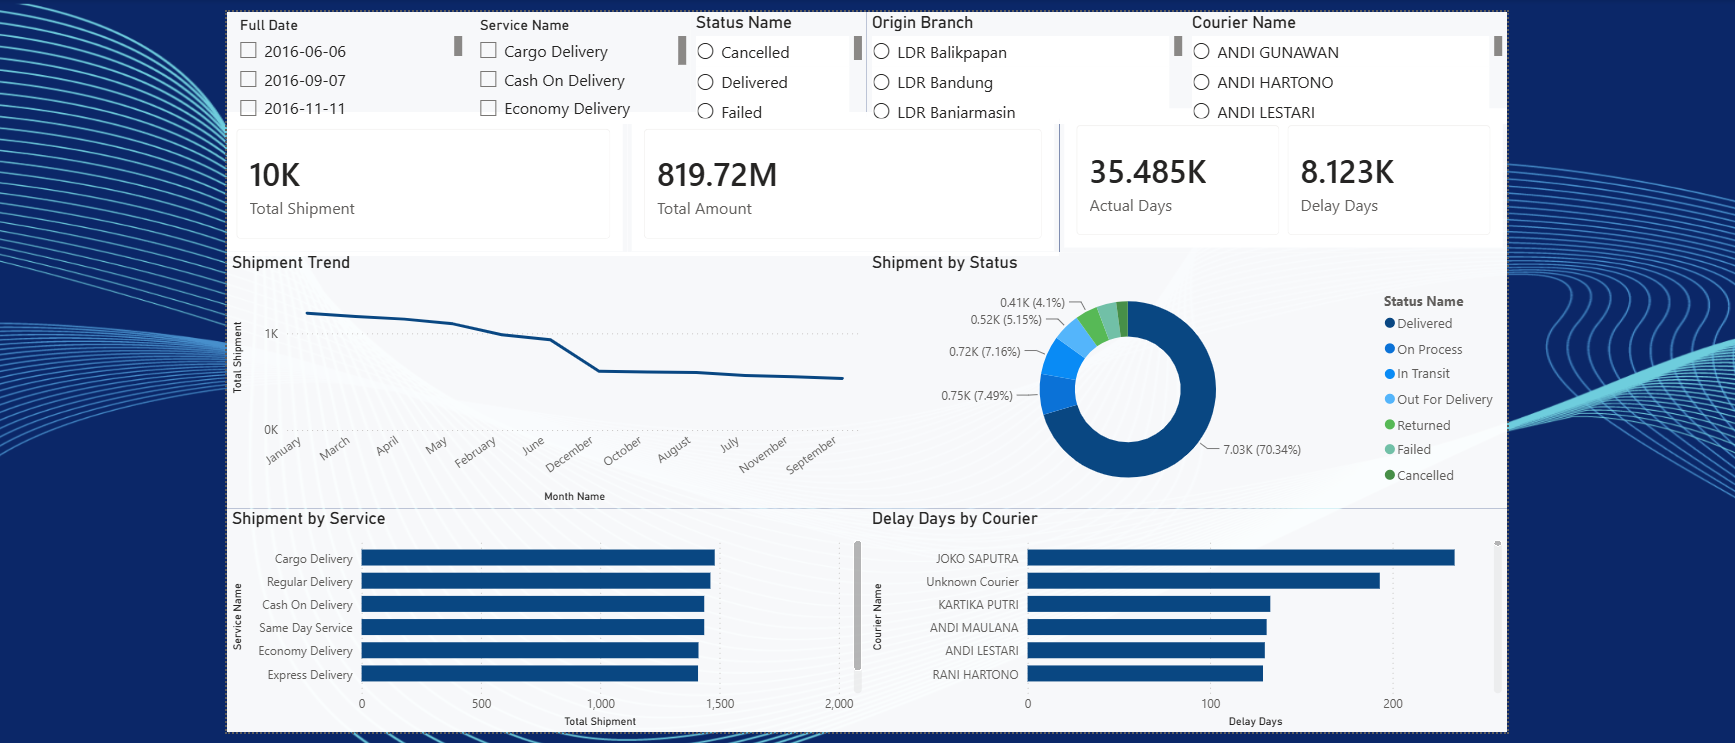

What the dashboard file says about the page in this screenshot:
{"tool":"powerbi","page":{"name":"Interactive Analysis Page","canvas":[1280,720],"ordinal":3},"visuals":[{"type":"cardVisual","fields":{"Data":["Fact Shipment.Total Shipment"]},"box":[416,112,416,128],"z":0},{"type":"cardVisual","fields":{"Data":["Fact Shipment.Total Amount"]},"box":[0,112,432,144],"z":1000},{"type":"cardVisual","fields":{"Data":["Fact Shipment.Actual Days","Fact Shipment.Delay Days"]},"box":[832,96,448,144],"z":2000},{"type":"slicer","fields":{"Values":["Dim Service.Service Name"]},"box":[240,0,208,112],"z":4000},{"type":"listSlicer","title":"Payment Method","fields":{"Values":["Dim Payment.Payment Method"]},"box":[656,0,208,112],"z":5000},{"type":"listSlicer","fields":{"Values":["Origin Branch.Branch Name"]},"box":[448,0,208,112],"z":7000},{"type":"lineChart","title":"Shipment Volume Trend","fields":{"Category":["Transaction Date.Month Name"],"Y":["Fact Shipment.Total Shipment"]},"box":[0,240,640,256],"z":8000},{"type":"donutChart","title":"Shipment Status Distribution","fields":{"Category":["Dim Shipment Status.Status Name"],"Y":["Fact Shipment.Total Shipment"]},"box":[640,240,640,256],"z":9000},{"type":"listSlicer","title":"Package Type","fields":{"Values":["Dim Package.Package Type"]},"box":[1072,0,208,112],"z":10000},{"type":"listSlicer","fields":{"Values":["Dim Shipment Status.Status Name"]},"box":[864,0,208,112],"z":11000},{"type":"tableEx","fields":{"Values":["Transaction Date.Full Date","Origin Branch.Branch Name","Destination Branch.Branch Name","Dim Service.Service Name","Dim Courier.Courier Name","Dim Customer.Customer Name","Dim Customer.Customer Type","Dim Shipment Status.Status Name","Dim Payment.Payment Method","Fact Shipment.Total Amount","Fact Shipment.Delay Days"]},"box":[0,496,1280,224],"z":12000},{"type":"listSlicer","title":"Month Name","fields":{"Values":["Transaction Date.Month Name"]},"box":[0,0,240,112],"z":13000}]}

Visuals, with their boxes on the page's 1280x720 design canvas (x1, y1, x2, y2). These are canvas units, not pixel positions in the 1735x743 screenshot, which may show the page scaled, cropped or inside an application window:
cardVisual - Fact Shipment.Total Shipment: bbox=[416, 112, 832, 240]
cardVisual - Fact Shipment.Total Amount: bbox=[0, 112, 432, 256]
cardVisual - Fact Shipment.Actual Days x Fact Shipment.Delay Days: bbox=[832, 96, 1280, 240]
slicer - Dim Service.Service Name: bbox=[240, 0, 448, 112]
"Payment Method" listSlicer: bbox=[656, 0, 864, 112]
listSlicer - Origin Branch.Branch Name: bbox=[448, 0, 656, 112]
"Shipment Volume Trend" lineChart: bbox=[0, 240, 640, 496]
"Shipment Status Distribution" donutChart: bbox=[640, 240, 1280, 496]
"Package Type" listSlicer: bbox=[1072, 0, 1280, 112]
listSlicer - Dim Shipment Status.Status Name: bbox=[864, 0, 1072, 112]
tableEx - Transaction Date.Full Date x Origin Branch.Branch Name: bbox=[0, 496, 1280, 720]
"Month Name" listSlicer: bbox=[0, 0, 240, 112]
